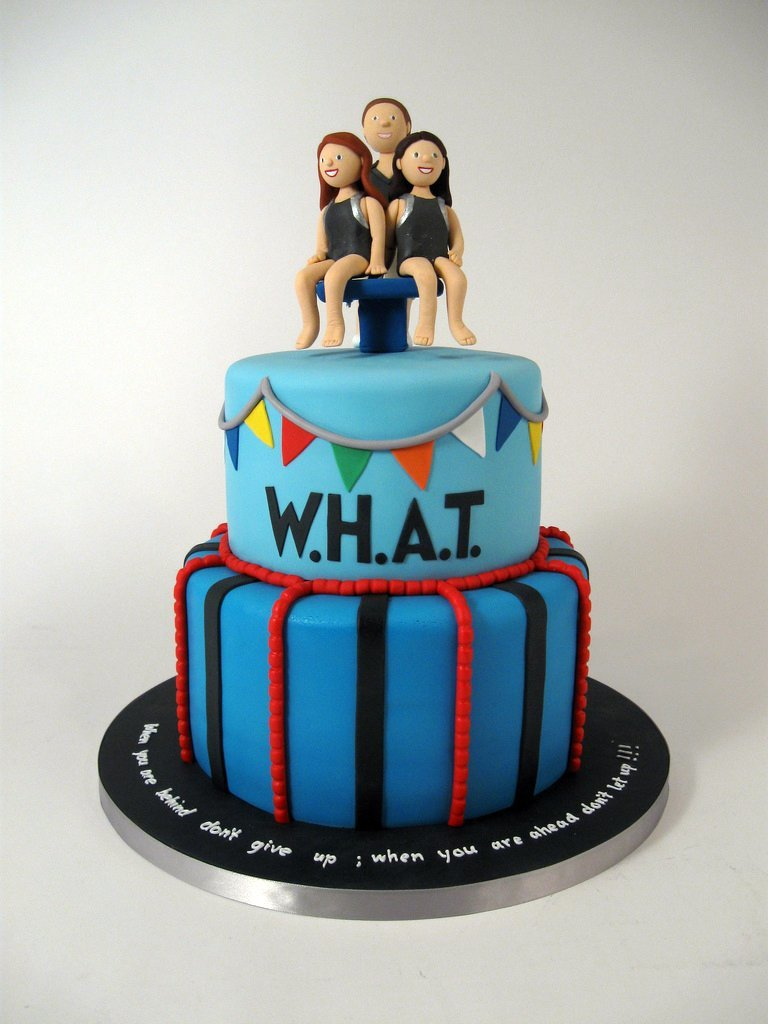cake: (167, 326, 596, 836)
